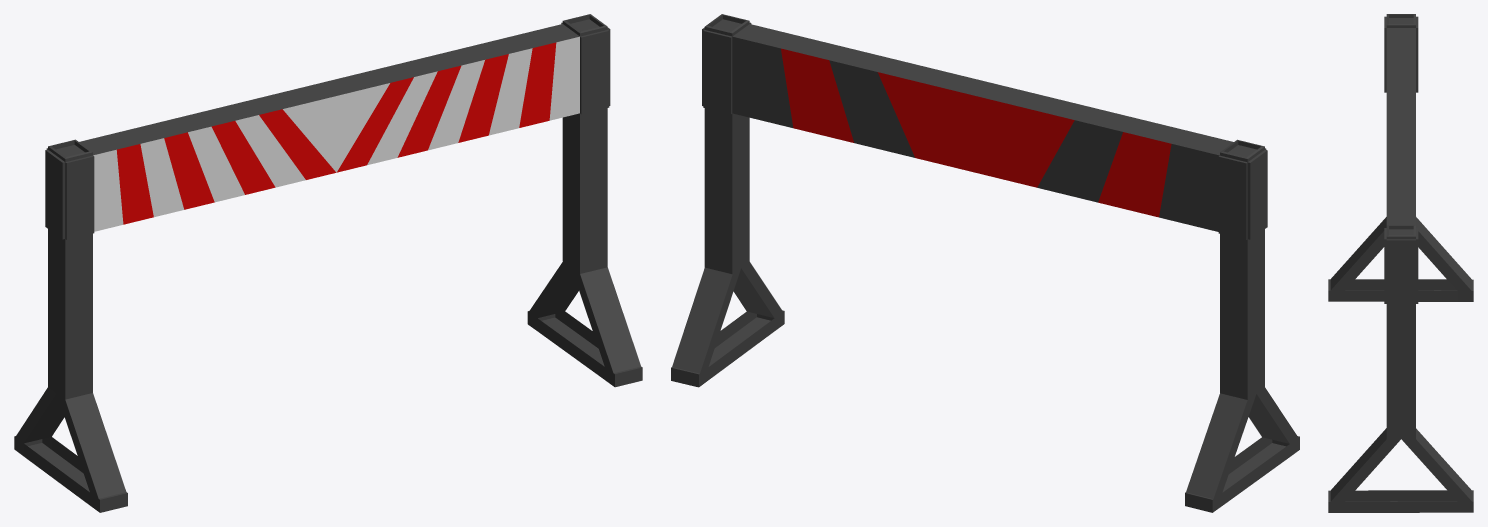
The model's file is barierka3.fbx.
The picture shows the model from 3 angles, left to right: view 1: azimuth 30°, elevation 25°; view 2: azimuth 150°, elevation 25°; view 3: azimuth 270°, elevation 25°; orthographic projection. The views are drawn at different scales.
Parts seen in each view (by area): view 1: Cube; view 2: Cube; view 3: Cube.
Boxes of the visible parts, left/top/right/bottom form: Cube: left=14, top=14, right=642, bottom=512; Cube: left=671, top=14, right=1299, bottom=512; Cube: left=1328, top=14, right=1473, bottom=512.
Bounding box in the file's own units: 475 × 273 × 130.
